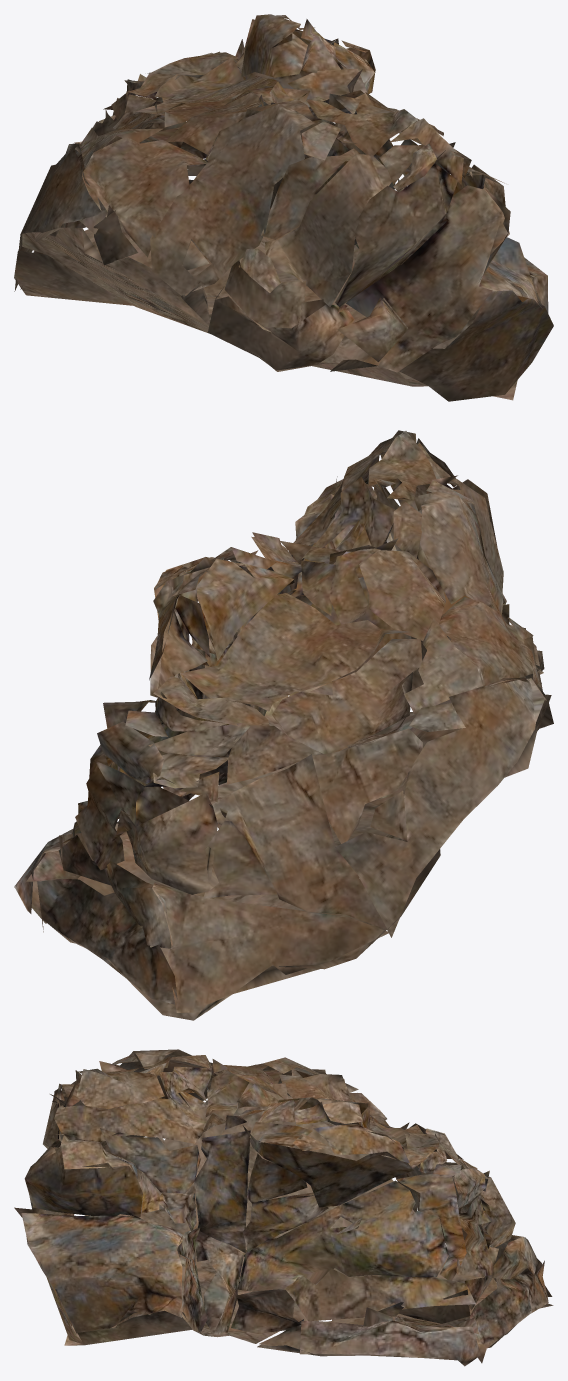
File: boulder_01_1k.glb.lod.glb
3 views of the same model, one above another, from view 1: azimuth 30°, elevation 25°; view 2: azimuth 150°, elevation 25°; view 3: azimuth 270°, elevation 25° (orthographic). The views are drawn at different scales.
Parts seen in each view (by area): view 1: boulder_01; view 2: boulder_01; view 3: boulder_01.
Part boxes in pixels (bbox=[...]): boulder_01: bbox=[14, 14, 553, 401]; boulder_01: bbox=[14, 430, 553, 1020]; boulder_01: bbox=[14, 1049, 553, 1366].
Bounding box in the file's own units: 1.28 × 1 × 1.84.
1 material, 1 textured.
